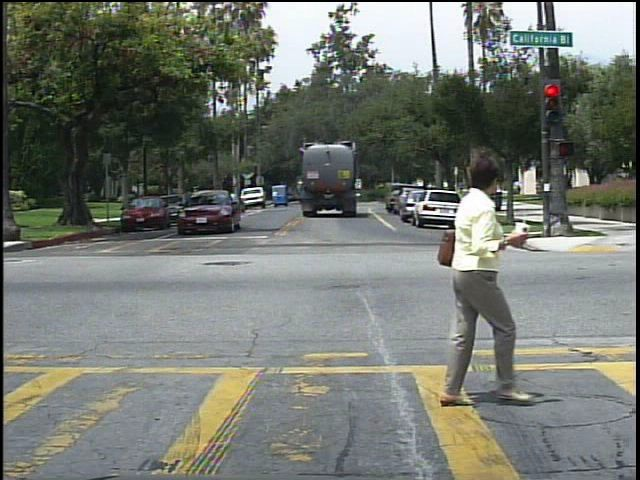person: (416, 140, 535, 412), (513, 180, 526, 199)
